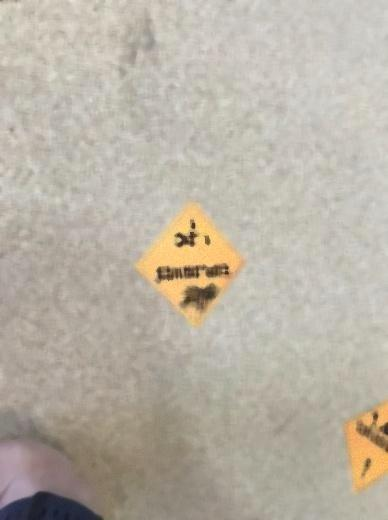explosive: (133, 200, 247, 327), (346, 395, 388, 495)
